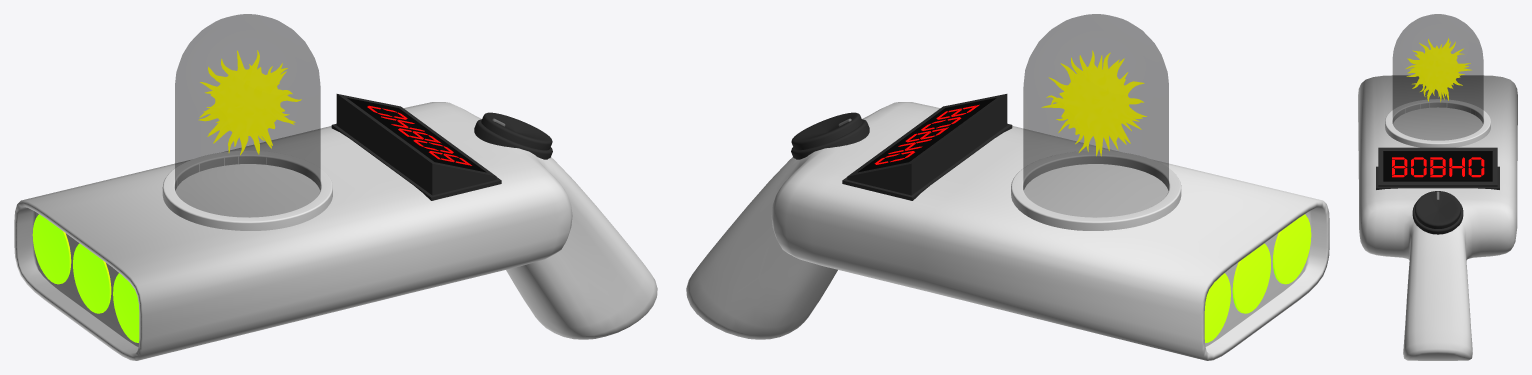
Rendered from portalgun.gltf.
3 renders of one model, left to right at view 1: azimuth 30°, elevation 25°; view 2: azimuth 150°, elevation 25°; view 3: azimuth 270°, elevation 25°, orthographic. The views are drawn at different scales.
Visible parts, largest first — view 1: Subdivision_Surface, Capsule, Cube_1, Subdivision_Surface_2, Tube, Cylinder_1_2, Cylinder, Cylinder_1, Cube, Extrude, Cylinder_2; view 2: Subdivision_Surface, Capsule, Cube_1, Subdivision_Surface_2, Tube, Cylinder_1_2, Cylinder, Cylinder_1, Cube, Extrude, Cylinder_2; view 3: Subdivision_Surface, Capsule, Cube_1, Subdivision_Surface_2, Tube, Cylinder_1, Extrude, Cylinder_2, Cube.
Part boxes in pixels (<box>): Subdivision_Surface: <box>14,102,657,360</box>; Capsule: <box>175,14,320,216</box>; Cube_1: <box>336,94,496,195</box>; Subdivision_Surface_2: <box>198,50,301,155</box>; Tube: <box>162,150,332,230</box>; Cylinder_1_2: <box>32,214,139,342</box>; Cylinder: <box>73,243,111,313</box>; Cylinder_1: <box>481,112,552,150</box>; Cube: <box>331,123,501,200</box>; Extrude: <box>367,105,471,165</box>; Cylinder_2: <box>474,119,552,159</box>; Subdivision_Surface: <box>686,102,1329,360</box>; Capsule: <box>1023,14,1168,217</box>; Cube_1: <box>847,94,1007,195</box>; Subdivision_Surface_2: <box>1041,50,1146,156</box>; Tube: <box>1011,150,1181,230</box>; Cylinder_1_2: <box>1204,214,1311,342</box>; Cylinder: <box>1232,243,1270,313</box>; Cylinder_1: <box>791,112,862,150</box>; Cube: <box>842,123,1012,200</box>; Extrude: <box>874,104,979,164</box>; Cylinder_2: <box>791,119,869,159</box>; Subdivision_Surface: <box>1358,75,1517,360</box>; Capsule: <box>1393,14,1483,140</box>; Cube_1: <box>1378,147,1497,186</box>; Subdivision_Surface_2: <box>1405,38,1471,102</box>; Tube: <box>1385,99,1490,147</box>; Cylinder_1: <box>1415,191,1460,228</box>; Extrude: <box>1392,157,1484,177</box>; Cylinder_2: <box>1412,202,1463,234</box>; Cube: <box>1376,166,1499,189</box>.
Bounding box in the file's own units: 249 × 162 × 98.46.
